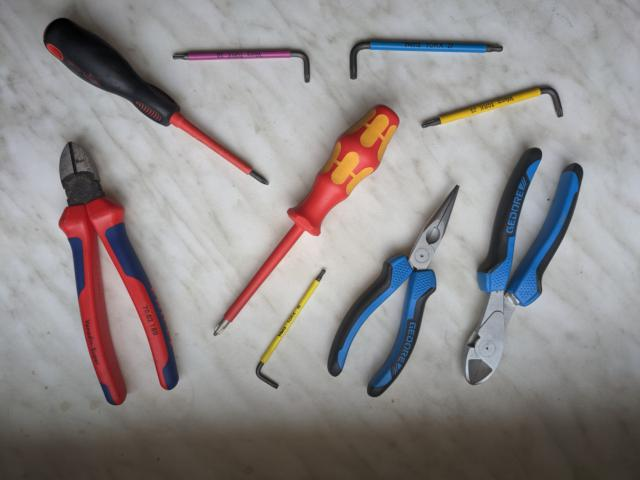Inbusschlüssel: (253, 264, 330, 392), (417, 83, 566, 132), (345, 38, 506, 83), (171, 46, 313, 86)
Schraubendreher: (210, 102, 402, 340), (41, 16, 273, 188)
Seitenschneider: (53, 137, 183, 407), (456, 145, 586, 388)
Zange: (326, 181, 461, 400)
